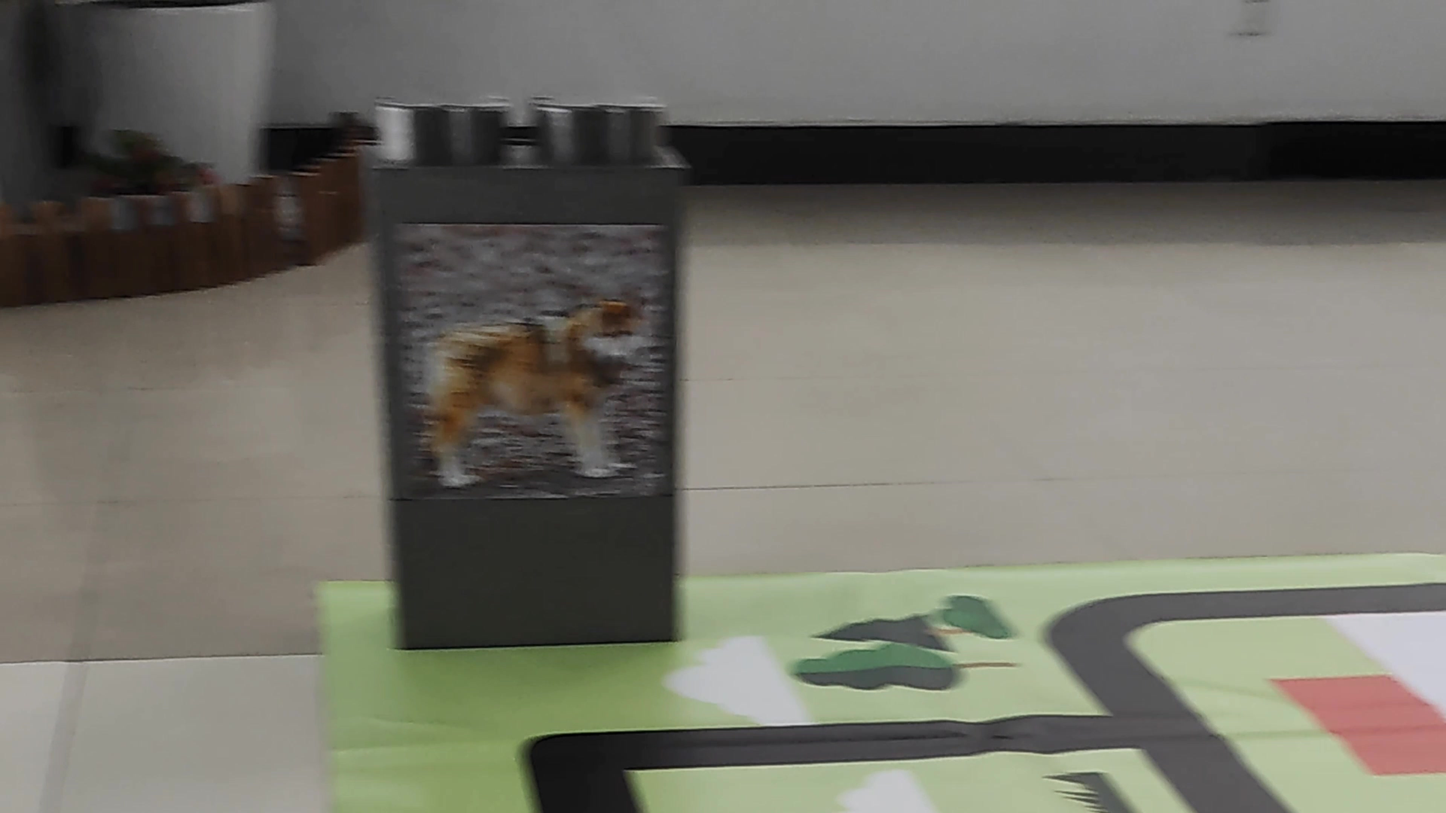wolf: (407, 278, 676, 519)
